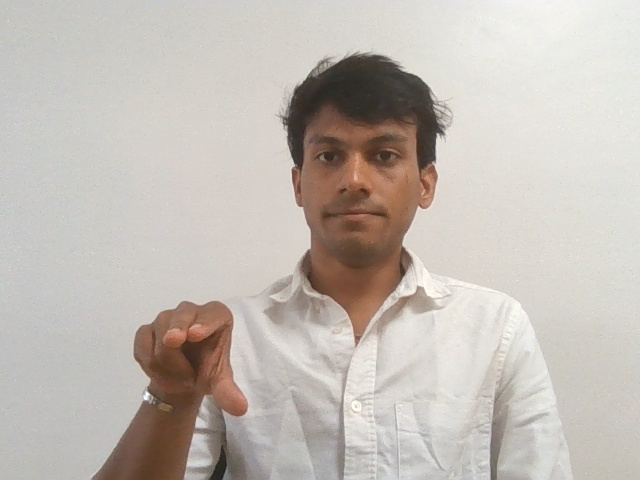No: (117, 292, 253, 418)
